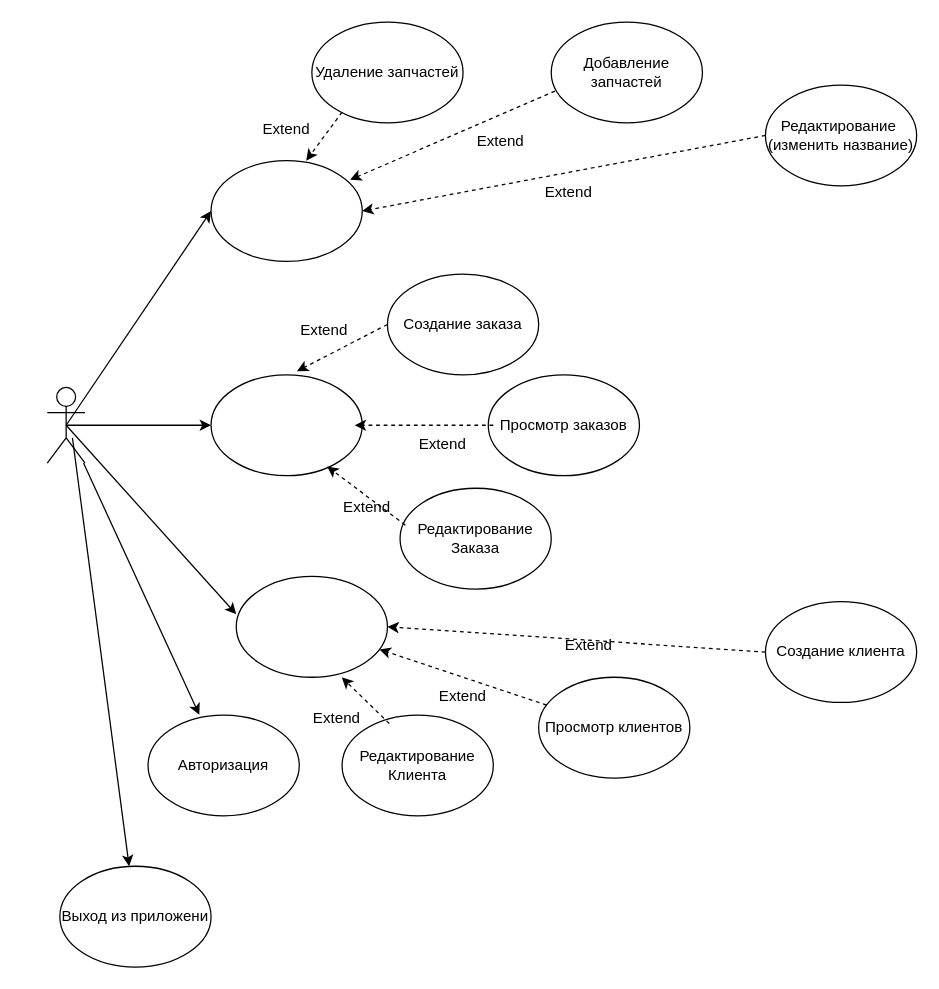
This 939x989 diagram has some shape labels left out. The shapes that lost their labels are listed below. From the top down, each one's centre as x and y in pixels, then its label:
(x=286, y=210): Управление базой запчастей
(x=65, y=424): Сотрудник Автосервиса
(x=286, y=425): Управление заказами
(x=311, y=626): Управление клиентской базой даннных
